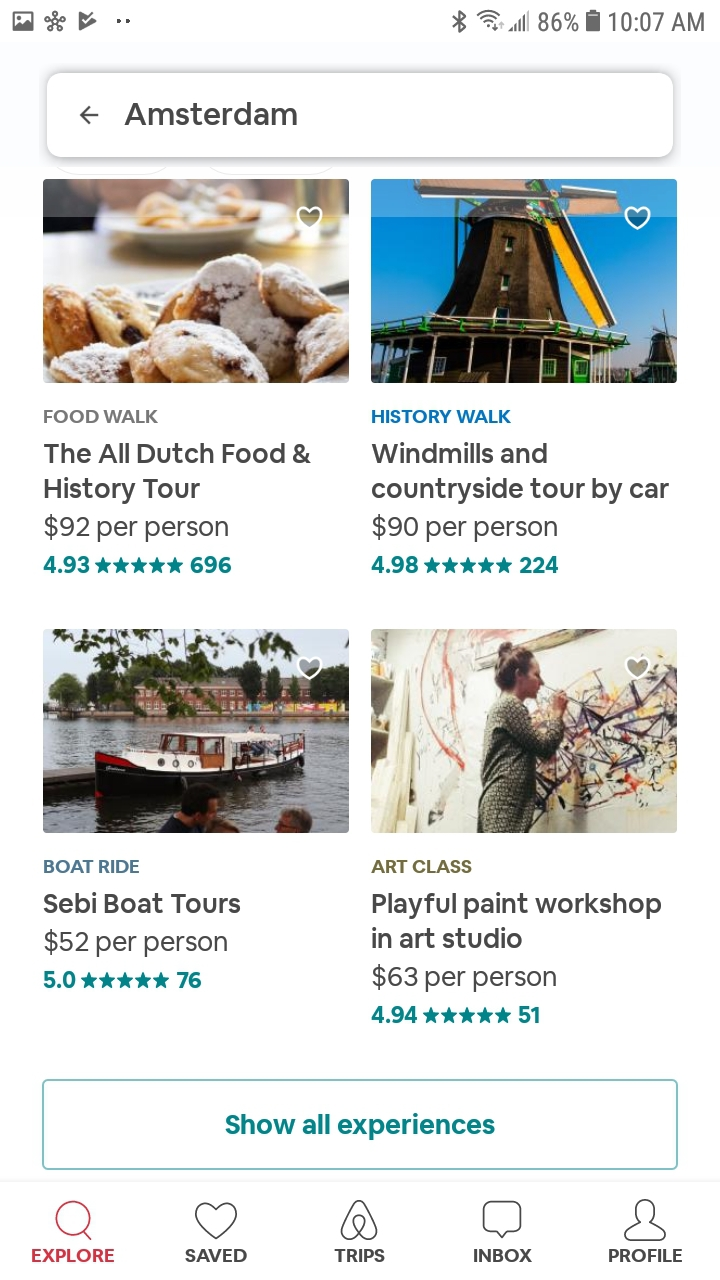EditText: (48, 73, 674, 158)
Icon: (623, 1199, 666, 1242), (195, 1201, 238, 1240), (423, 1006, 512, 1024), (424, 557, 513, 575), (482, 1200, 523, 1239), (341, 1200, 379, 1241), (81, 972, 170, 989), (95, 557, 184, 574), (56, 1200, 92, 1240), (623, 206, 651, 231), (297, 656, 323, 680), (625, 656, 651, 680), (297, 207, 323, 229), (80, 107, 100, 126)
Image: (371, 179, 677, 384), (44, 179, 350, 384), (44, 629, 350, 833), (371, 629, 677, 833)
Text: (372, 442, 669, 505), (44, 443, 311, 505), (371, 892, 661, 949), (372, 513, 558, 543), (372, 964, 557, 993), (45, 514, 229, 543), (45, 929, 228, 958), (44, 892, 241, 915), (124, 102, 298, 127), (371, 409, 512, 424), (44, 410, 159, 425), (44, 859, 141, 874), (371, 860, 473, 874), (32, 1248, 116, 1263), (609, 1248, 683, 1263), (185, 1248, 248, 1263), (371, 556, 419, 575), (371, 1005, 418, 1024), (474, 1248, 533, 1263), (44, 556, 91, 574), (190, 556, 232, 575), (334, 1248, 385, 1263), (520, 556, 559, 574), (44, 970, 77, 989), (176, 971, 202, 989), (519, 1005, 540, 1024)
TextButton: (43, 1079, 679, 1171)
UpperTaskBar: (1, 1, 720, 34)
